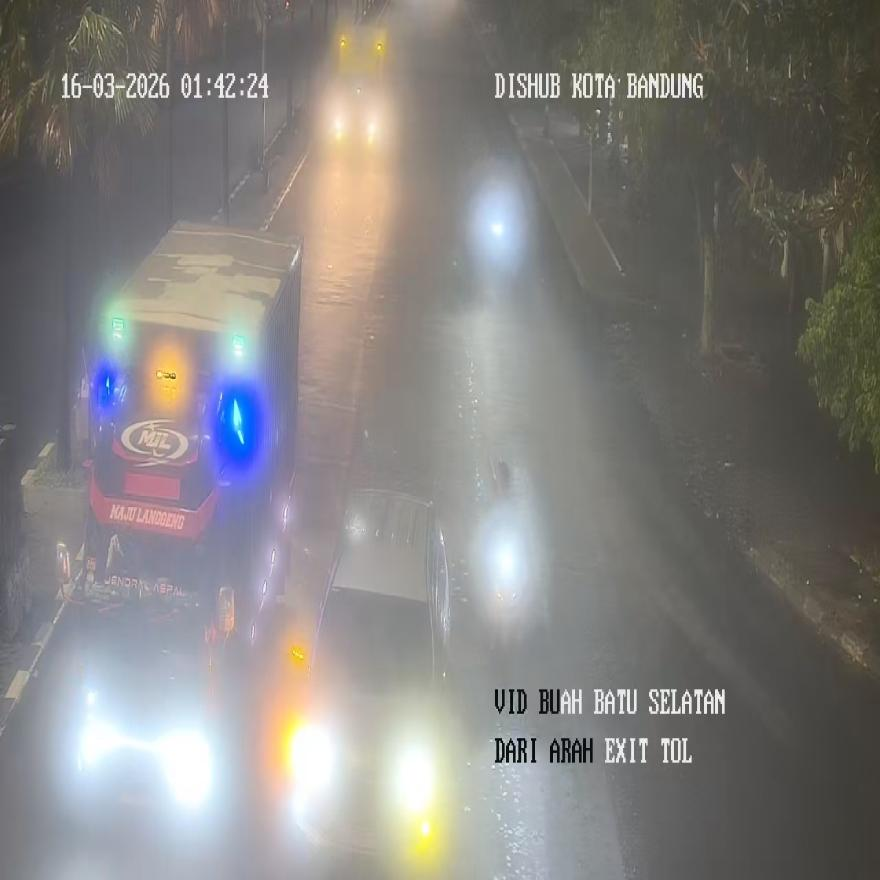Mobil: (283, 489, 454, 876)
Motor: (480, 458, 547, 655), (462, 174, 527, 295), (486, 533, 546, 657), (489, 544, 529, 651)
Truk menengah: (54, 221, 301, 824)
Truk ringan: (321, 29, 389, 152)
